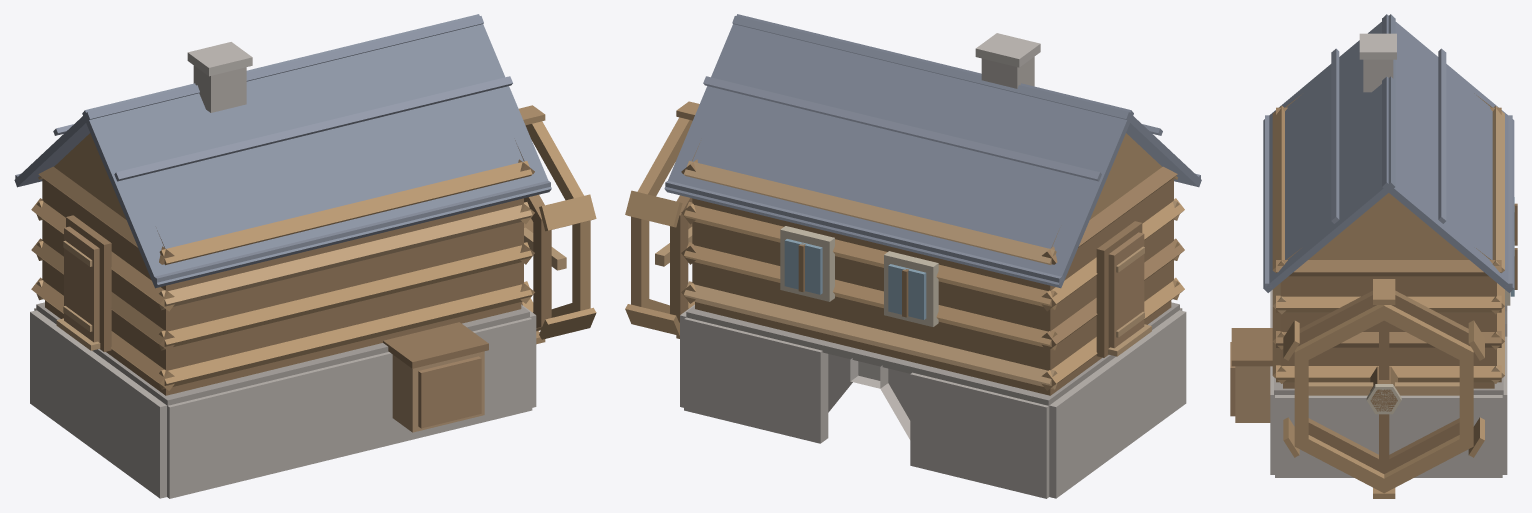
3 renders of one model, left to right at view 1: azimuth 30°, elevation 25°; view 2: azimuth 150°, elevation 25°; view 3: azimuth 270°, elevation 25°, orthographic. The views are drawn at different scales.
Visible parts, largest first — view 1: Body, WheelPivot; view 2: Body, WheelPivot; view 3: Body, WheelPivot.
Part boxes in pixels (left/top/right/bottom): Body: left=14, top=14, right=551, bottom=498; WheelPivot: left=519, top=105, right=596, bottom=344; Body: left=664, top=14, right=1201, bottom=498; WheelPivot: left=625, top=101, right=699, bottom=338; Body: left=1230, top=14, right=1517, bottom=477; WheelPivot: left=1283, top=279, right=1484, bottom=498.
Bounding box in the file's own units: 8.02 × 6.17 × 4.94.
